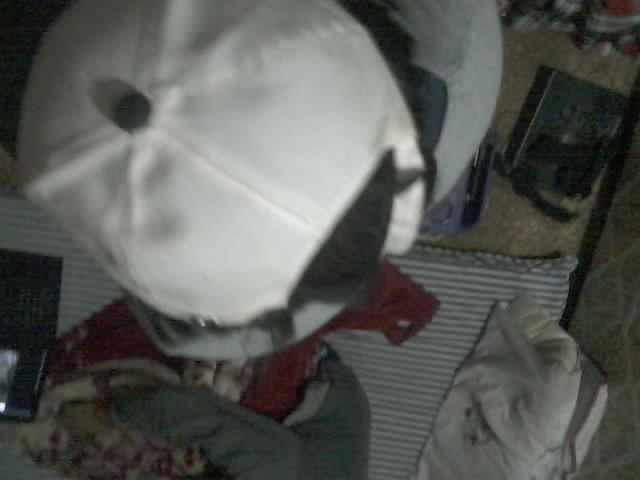cap: (17, 0, 505, 361)
